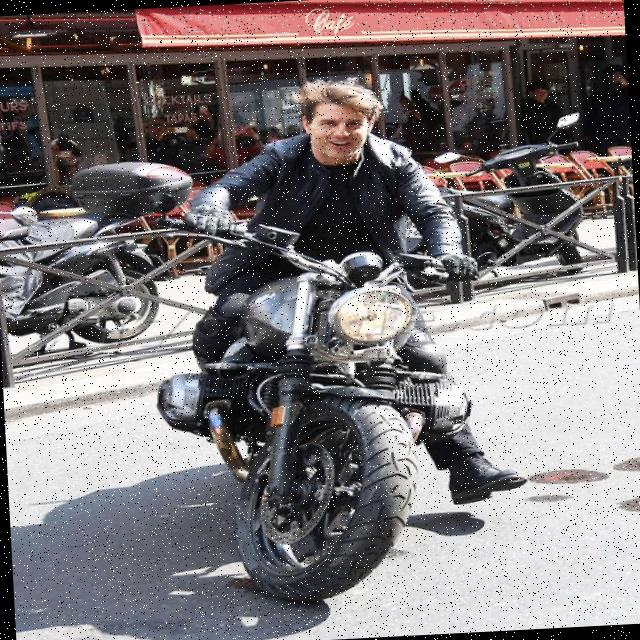No helmet: (290, 62, 389, 185)
